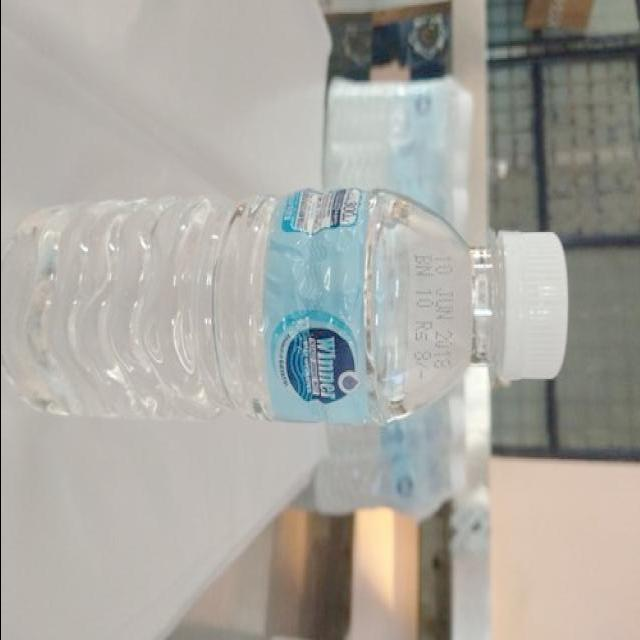cap: (490, 224, 566, 388)
label: (259, 186, 370, 430)
not-crumbled: (3, 187, 576, 430)
